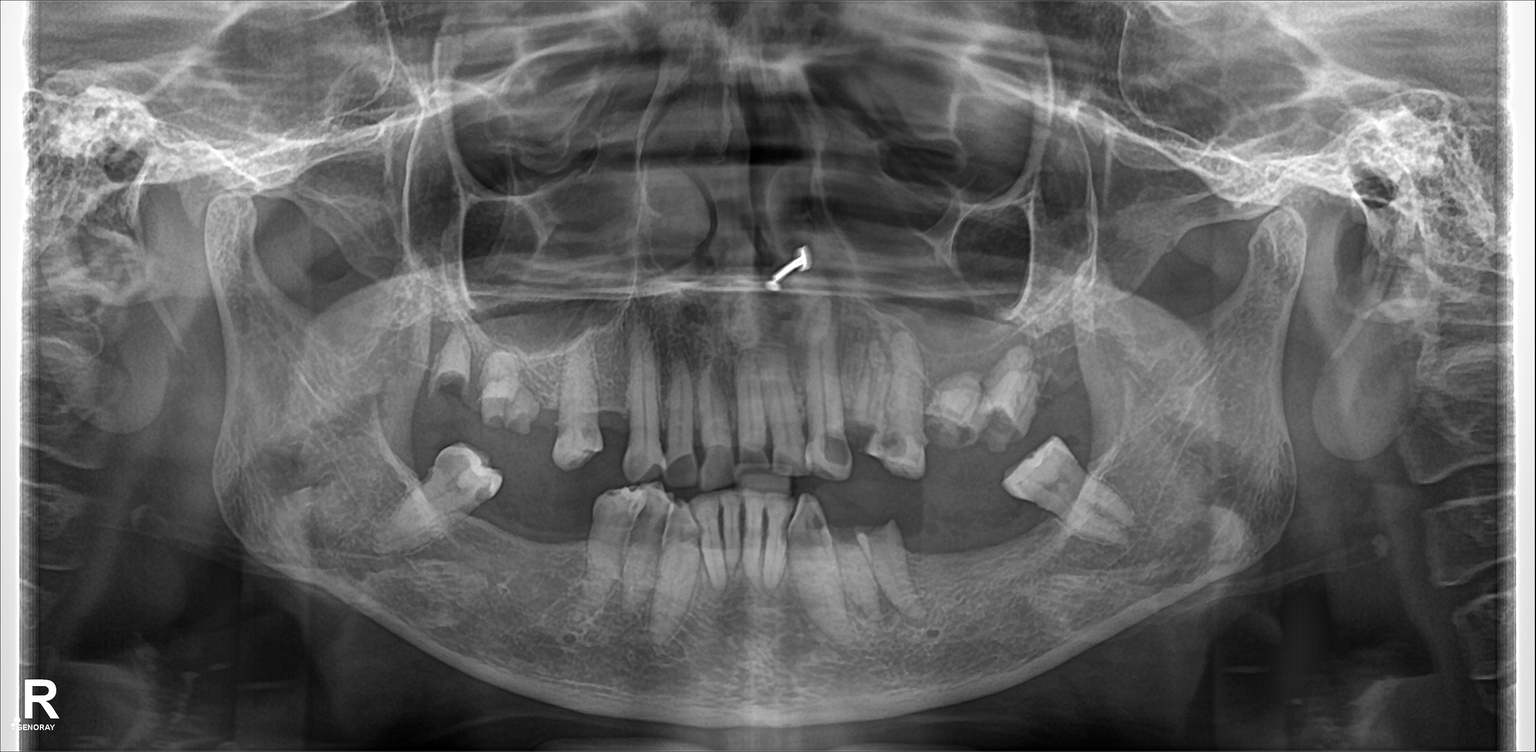Dental Caries: (819, 434, 857, 466), (879, 432, 915, 463), (663, 456, 699, 483), (849, 417, 879, 448), (706, 447, 731, 484)
Impacted Third Molar: (1009, 447, 1104, 529), (404, 454, 487, 524)
Missing Tooth: (1037, 302, 1083, 422), (598, 333, 636, 466), (389, 302, 431, 419), (372, 413, 422, 509), (968, 490, 1015, 587), (482, 478, 526, 569), (534, 490, 584, 570), (914, 501, 961, 582)
Retained Root: (469, 322, 533, 442), (922, 331, 986, 451), (542, 339, 596, 465), (980, 322, 1029, 448), (432, 292, 477, 410)
